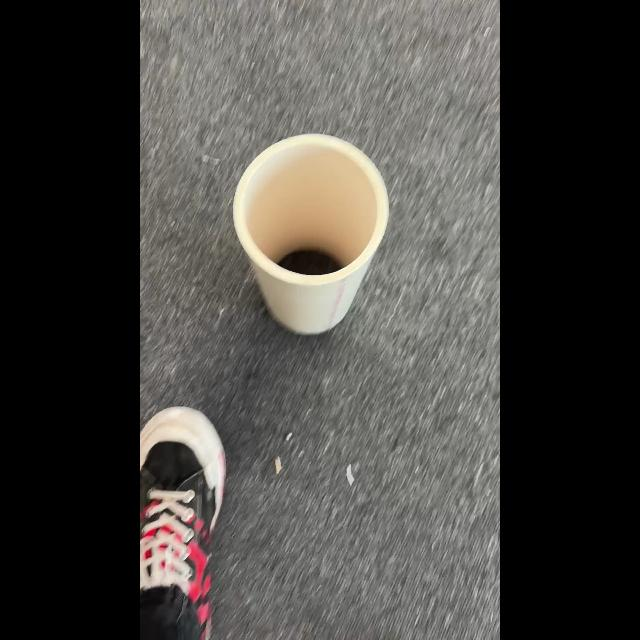CORAL: (232, 132, 390, 336)
